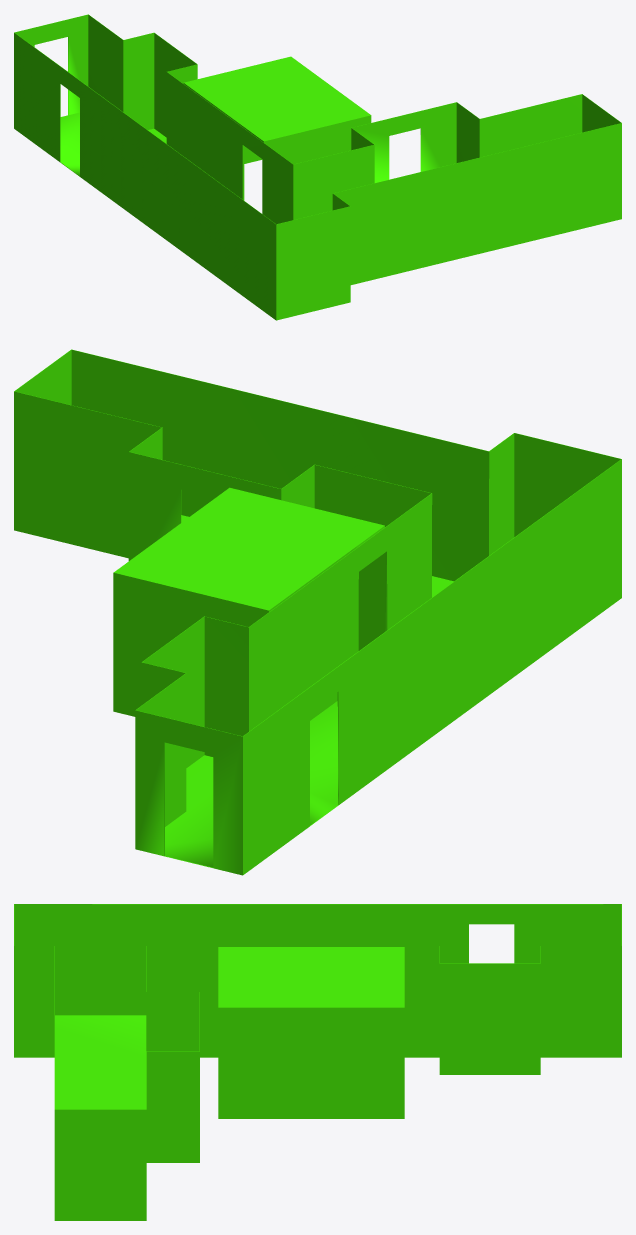
File: S_Level_a.FBX
3 renders of one model, top to bottom at view 1: azimuth 30°, elevation 25°; view 2: azimuth 150°, elevation 25°; view 3: azimuth 270°, elevation 25°, orthographic. The views are drawn at different scales.
Parts seen in each view (by area): view 1: Level; view 2: Level; view 3: Level.
Boxes of the visible parts, <box> form: Level: <box>14,14,621,320</box>; Level: <box>14,349,621,875</box>; Level: <box>14,904,621,1220</box>.
Bounding box in the file's own units: 1000 × 253 × 1250.
